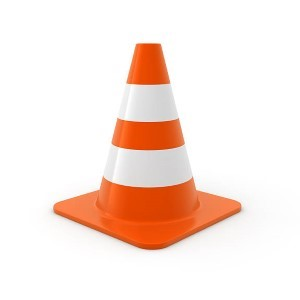traffic cone: (53, 43, 241, 250)
